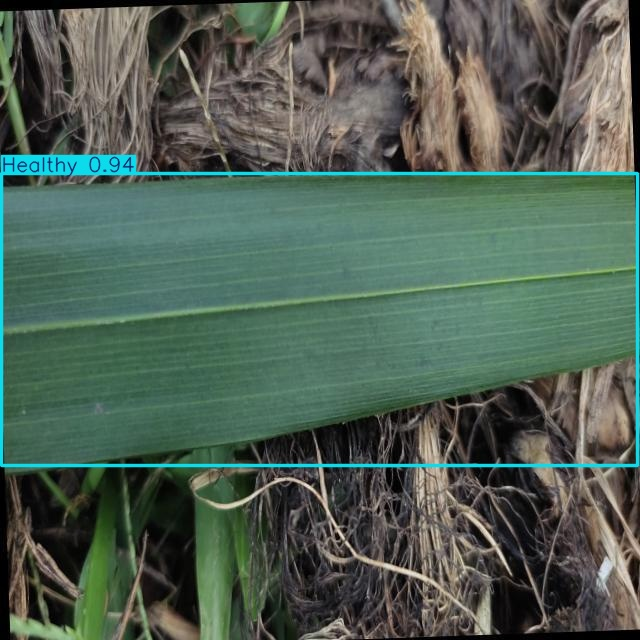Healthy: (1, 174, 637, 465)
